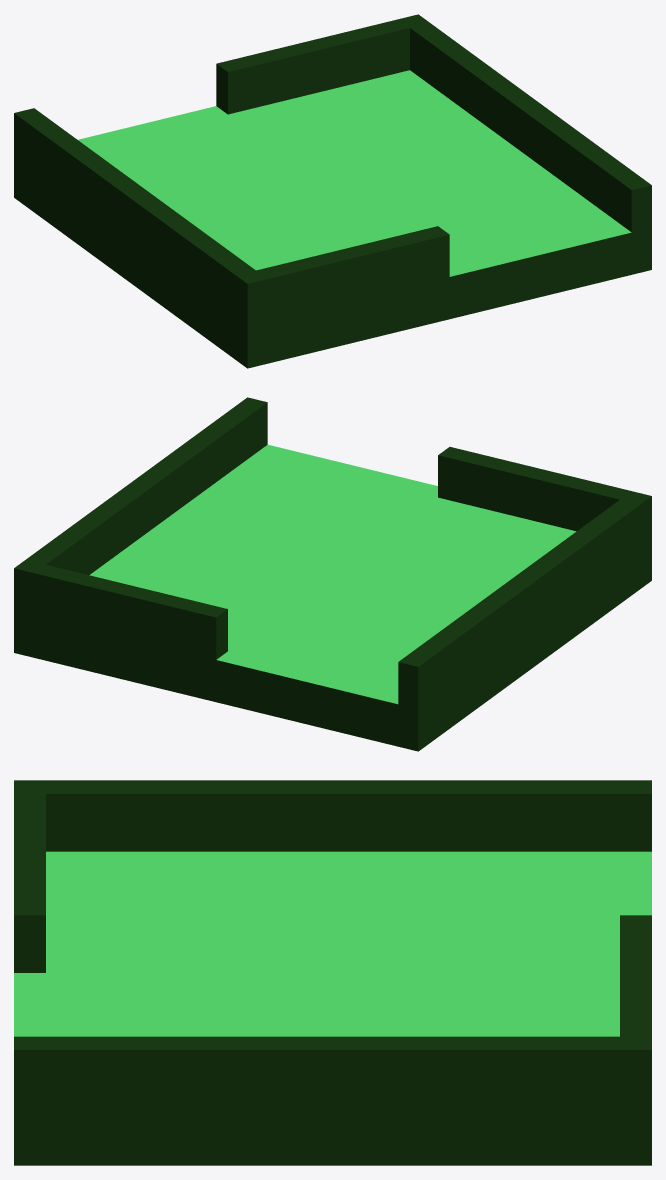
The model's file is MG Short Entry Dual.fbx.
The picture shows the model from 3 angles, top to bottom: view 1: azimuth 30°, elevation 25°; view 2: azimuth 150°, elevation 25°; view 3: azimuth 270°, elevation 25°; orthographic projection. The views are drawn at different scales.
Visible parts, largest first — view 1: MG Short Entry Dual; view 2: MG Short Entry Dual; view 3: MG Short Entry Dual.
Boxes of the visible parts, x1=… form: MG Short Entry Dual: x1=14, y1=14, x2=651, y2=368; MG Short Entry Dual: x1=14, y1=397, x2=651, y2=751; MG Short Entry Dual: x1=14, y1=780, x2=651, y2=1165.
Size of the model in its own units: 200 by 40 by 200.
